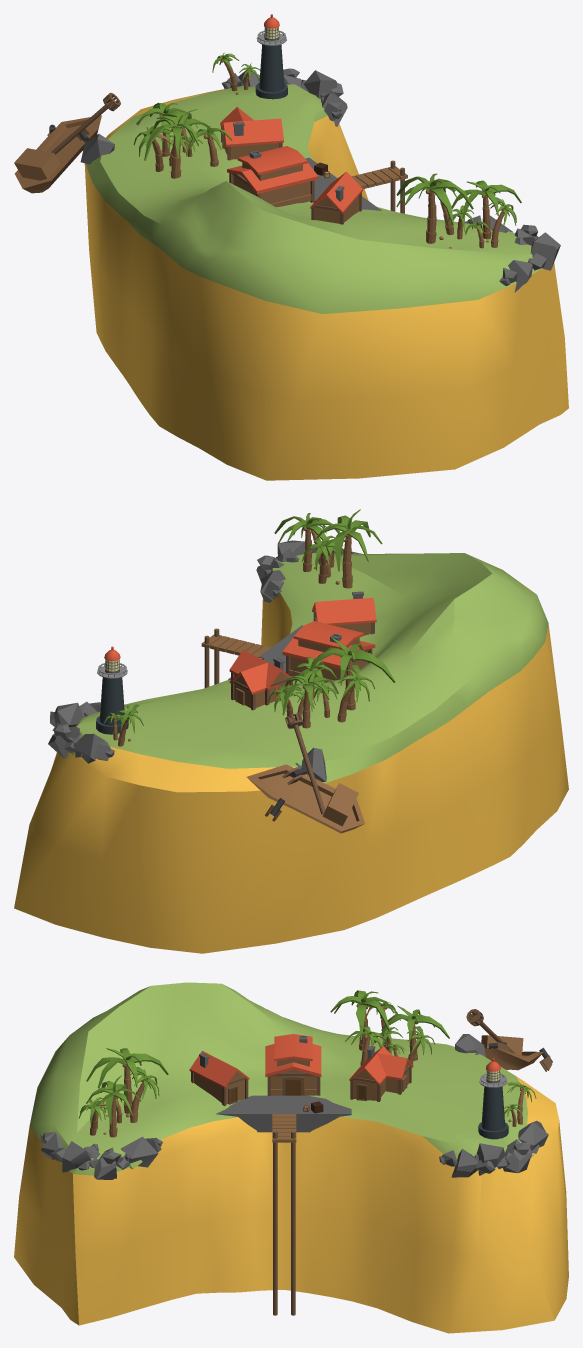
3 renders of one model, top to bottom at view 1: azimuth 30°, elevation 25°; view 2: azimuth 150°, elevation 25°; view 3: azimuth 270°, elevation 25°, orthographic. The views are drawn at different scales.
Parts seen in each view (by area): view 1: Icosphere.001; view 2: Icosphere.001; view 3: Icosphere.001.
Boxes of the visible parts, x1,y1,x2,y2 form: Icosphere.001: (14,14,568,480); Icosphere.001: (14,509,568,953); Icosphere.001: (14,982,568,1333).
Bounding box in the file's own units: 6.6 × 4.89 × 9.85.
